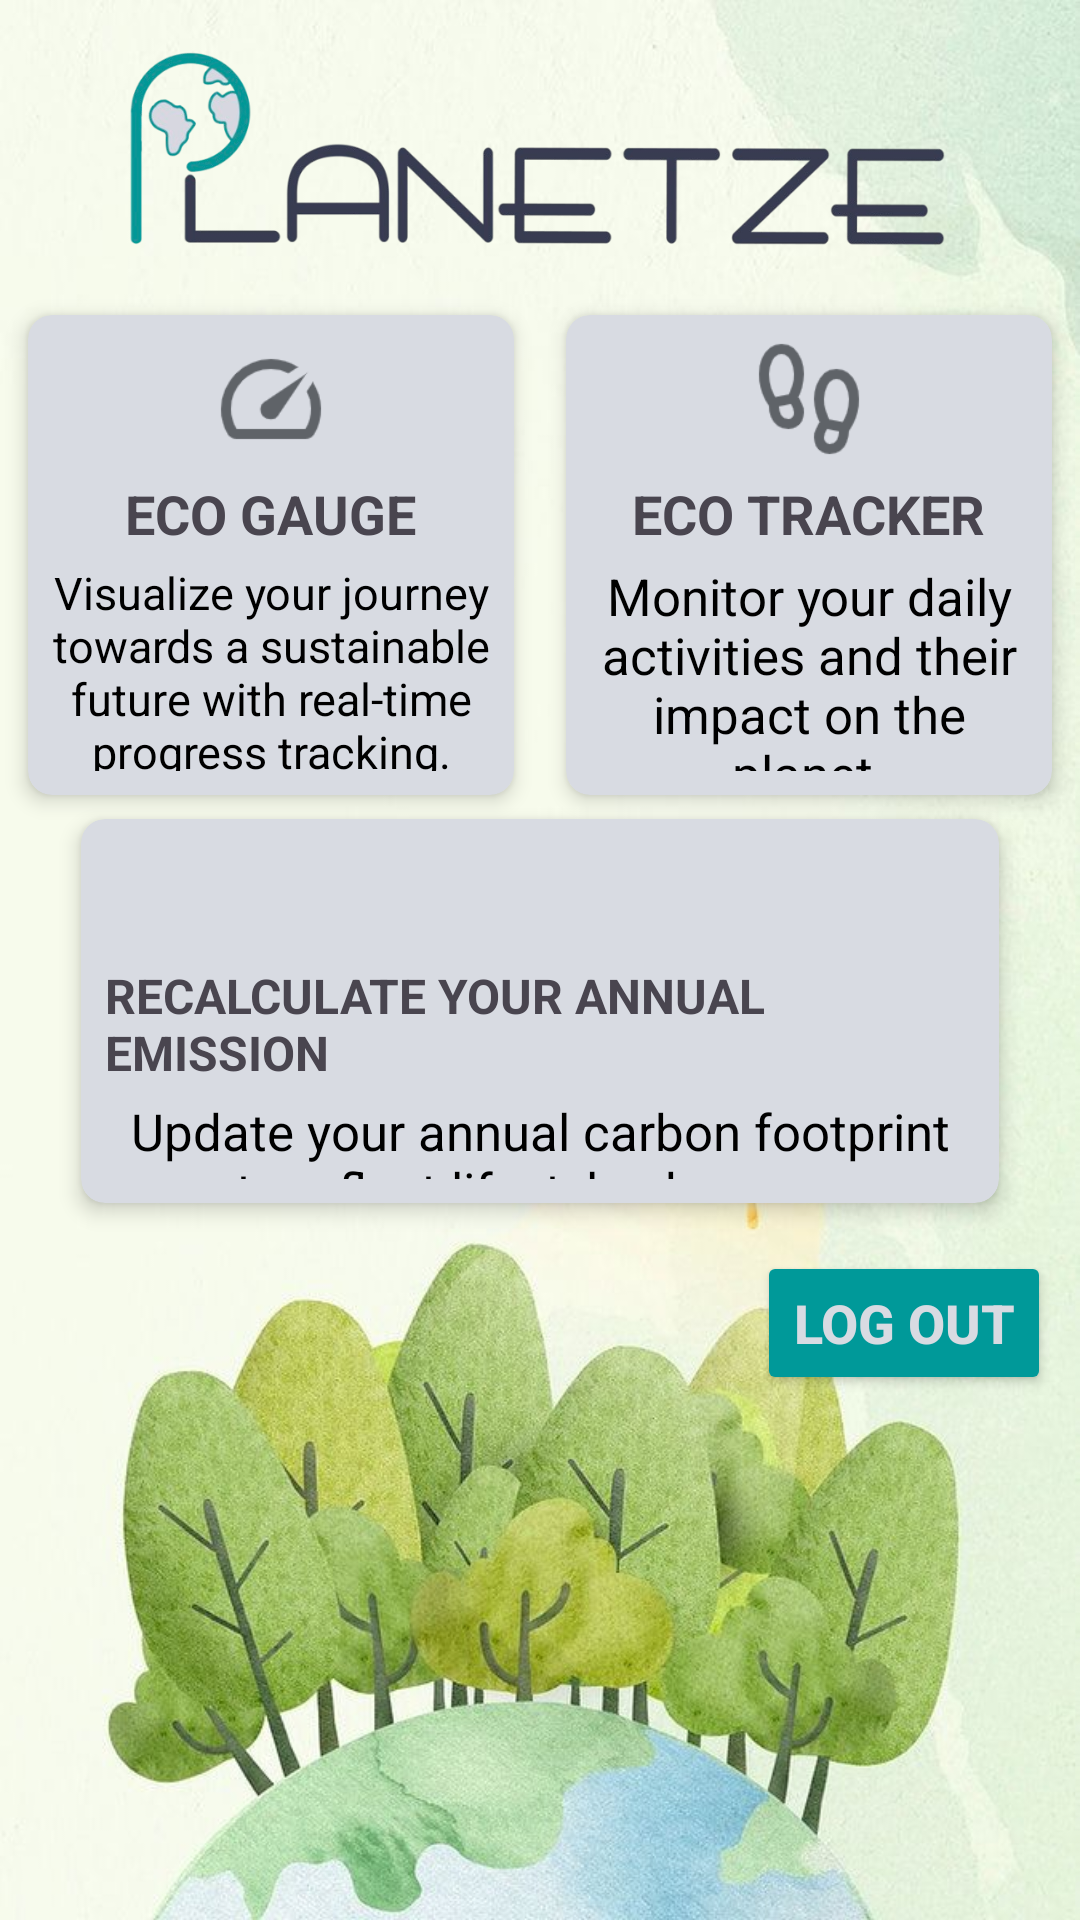

Icons on this 1080w x 1920h Android screen, each with the point to tap as (x=x, y=y):
footprint: (x=809, y=399)
speed: (x=271, y=399)
